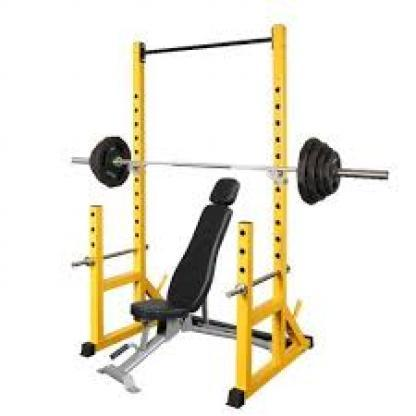smith machine: (70, 24, 389, 409)
